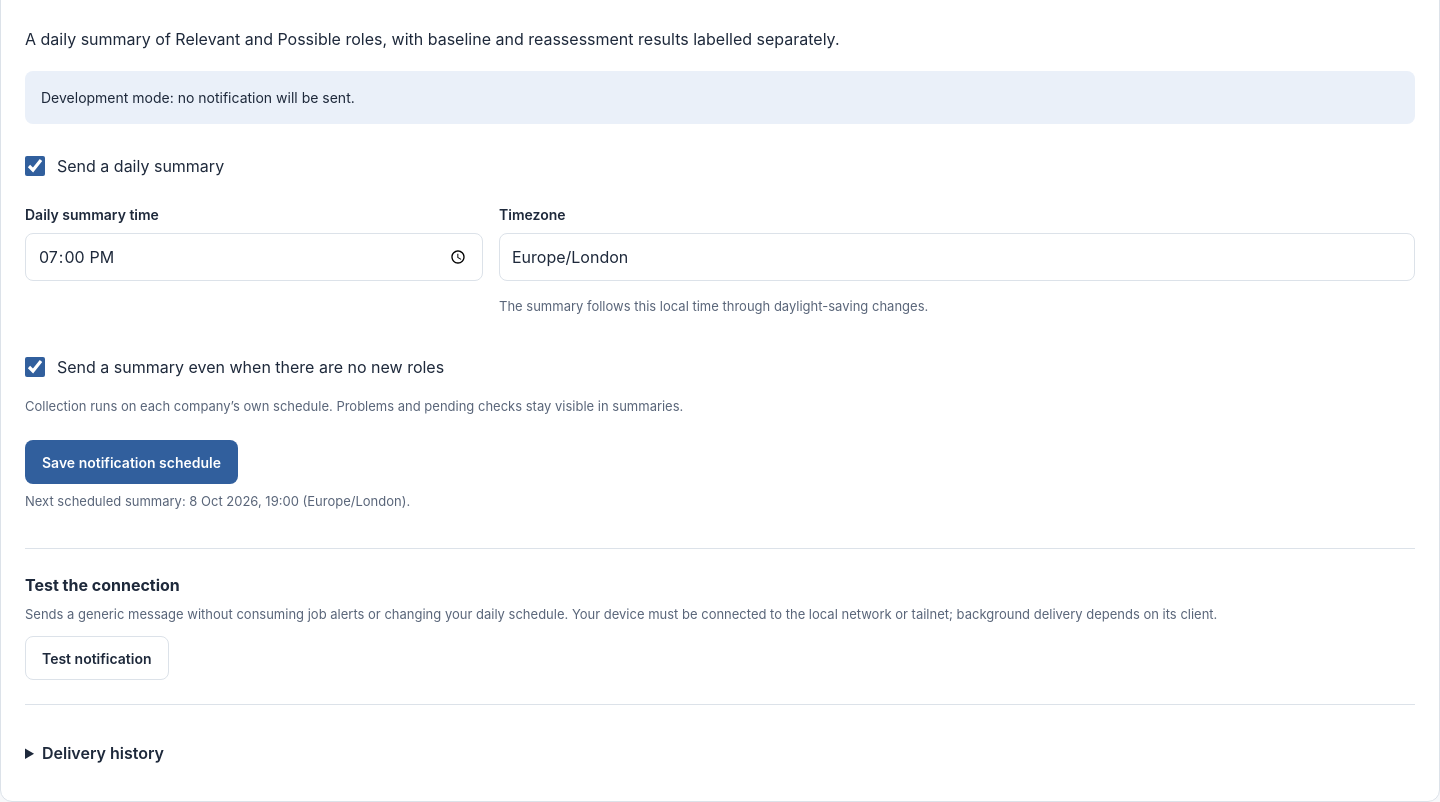
Test: unknown resend requires acknowledgement and replays the same body after network loss
The width and height of the screenshot is (1440, 802).
(page scrolled)
Click the heading "Delivery history" at (103, 753), box [42,743,164,763]
(page scrolled)
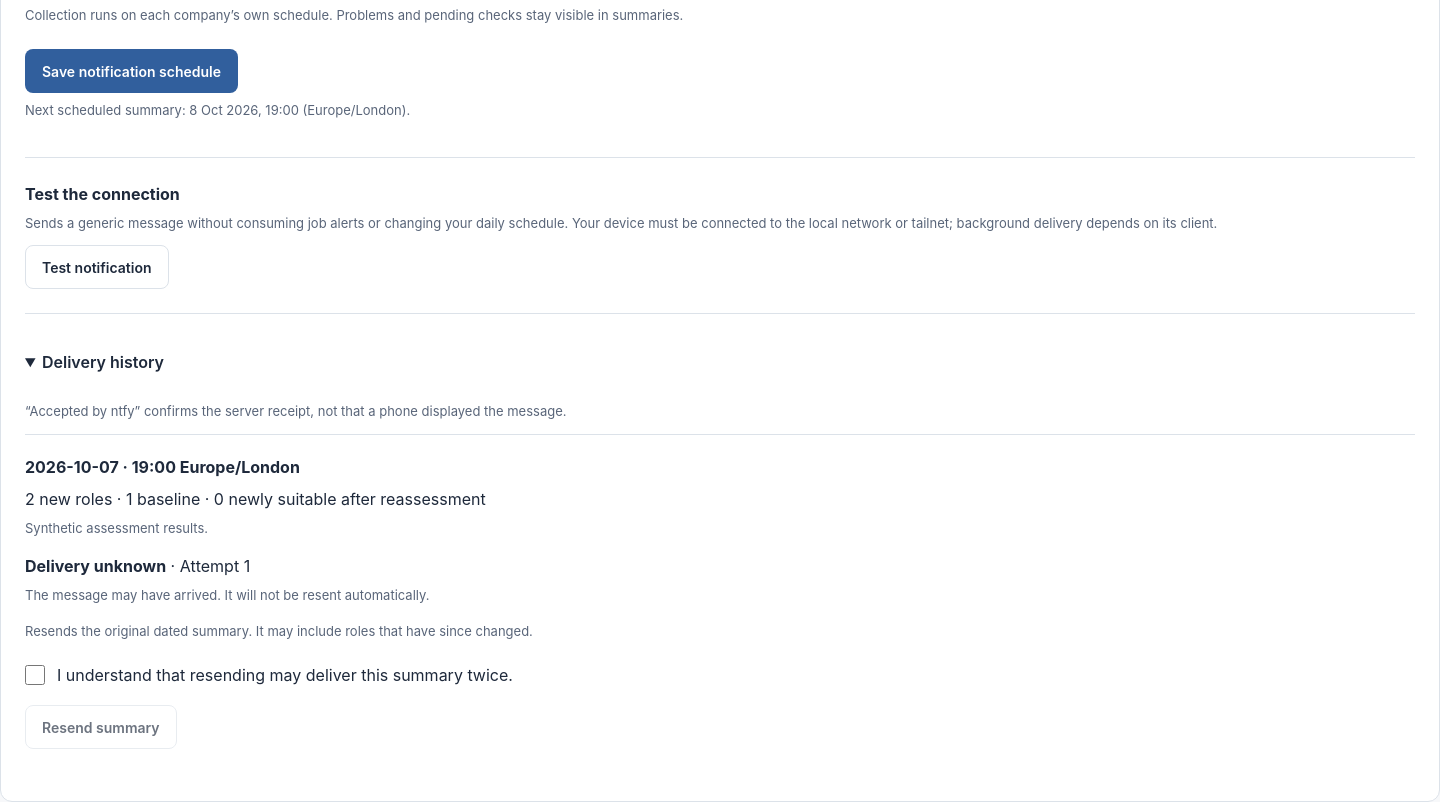
Now the button "Resend summary" is disabled, box [25,705,177,749]
Click the checkbox labelled "I understand that resending may deliver this summary twice." at (35, 675), box [25,665,45,685]
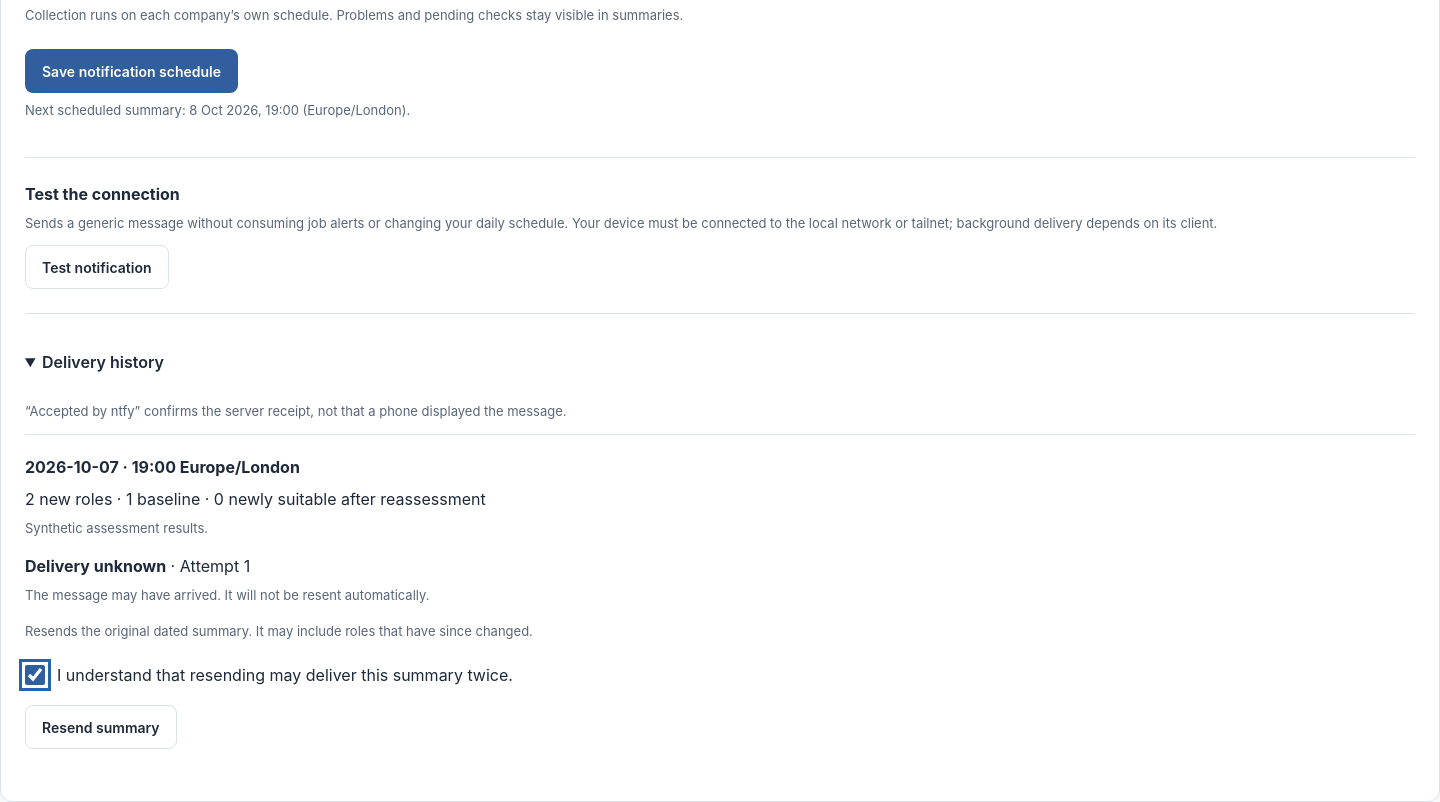
Click the button "Resend summary" at (101, 727), box [25,705,177,749]
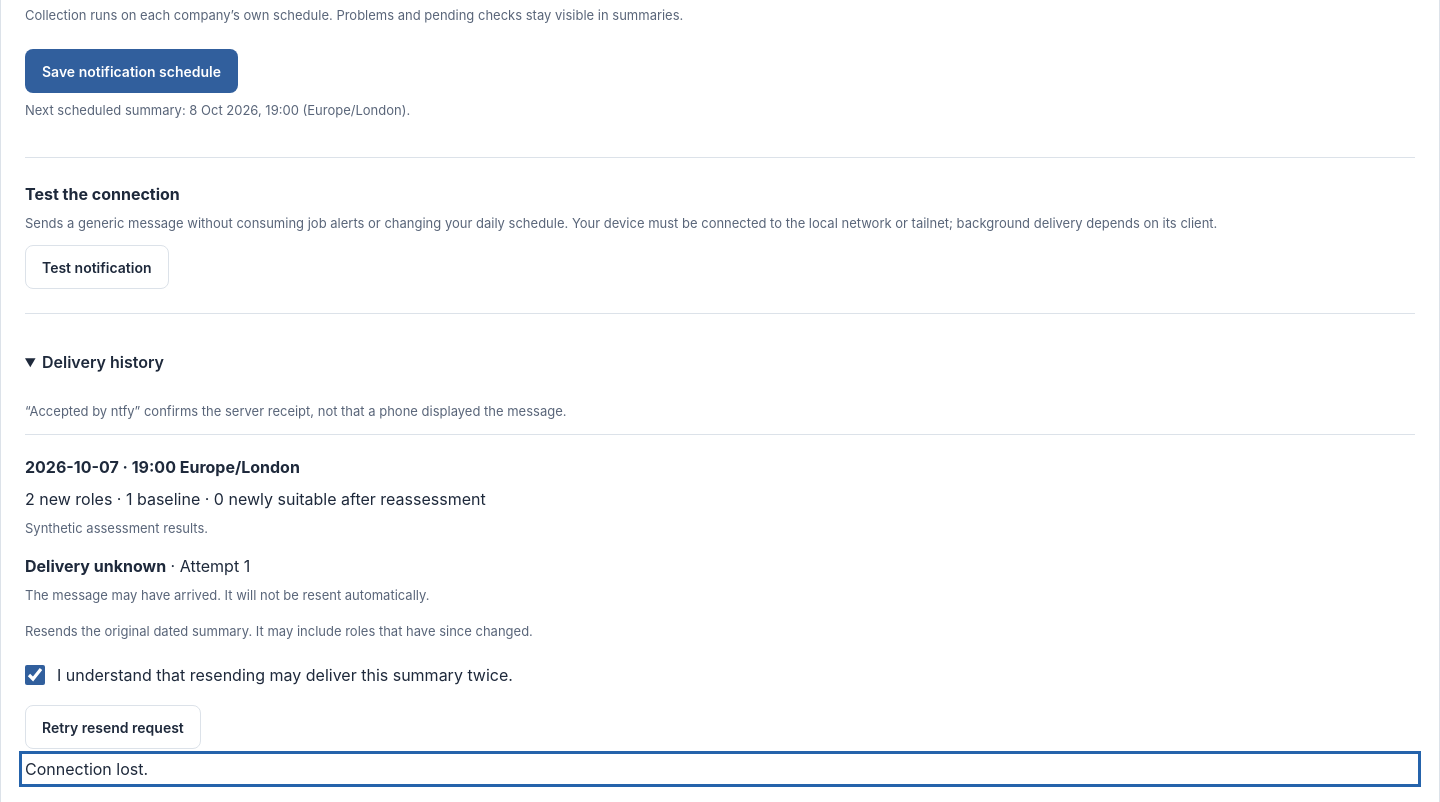
Now the text "Connection lost." is shown, box [25,759,148,779]
Click the button "Retry resend request" at (113, 727), box [25,705,201,749]
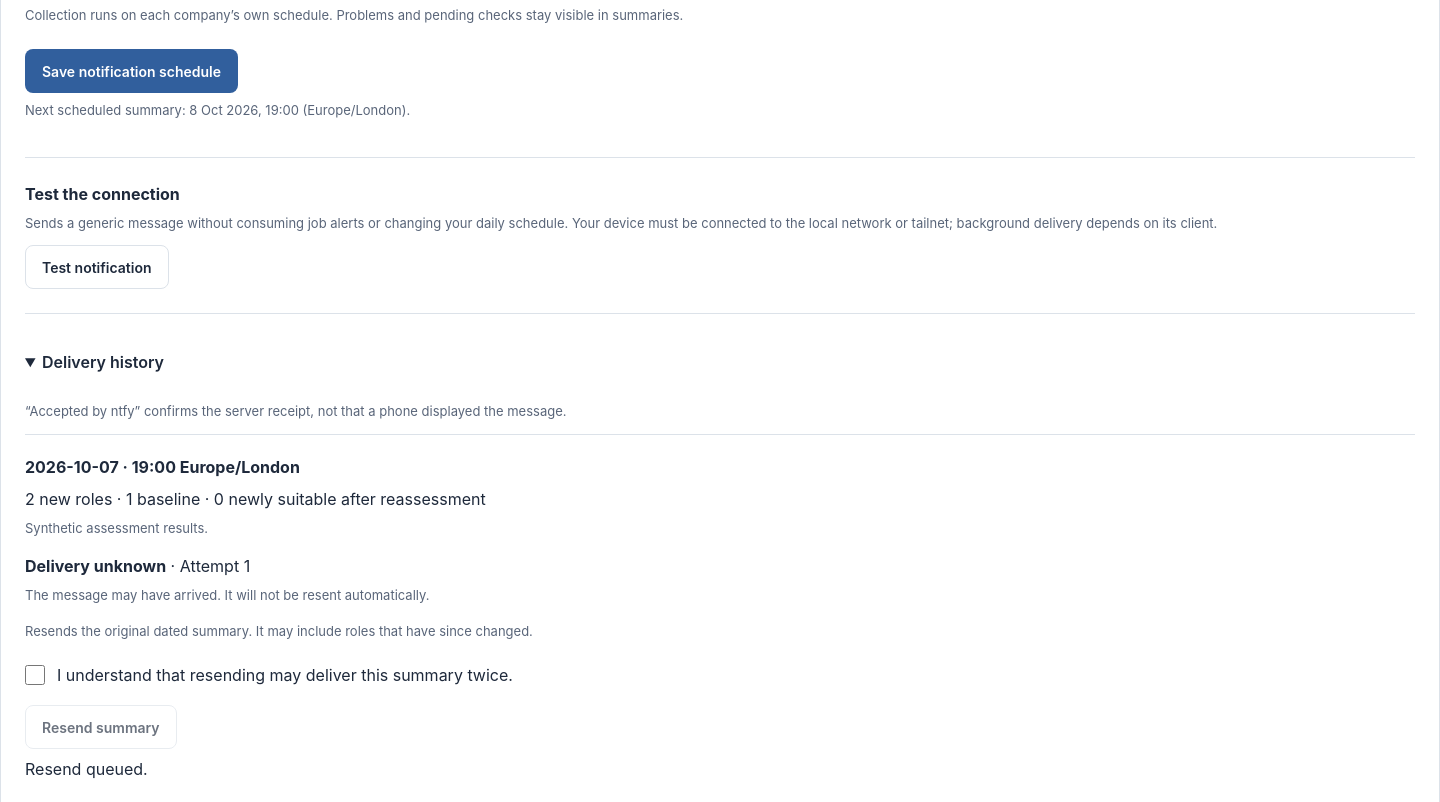
Now the text "Resend queued." is shown, box [25,759,148,779]
